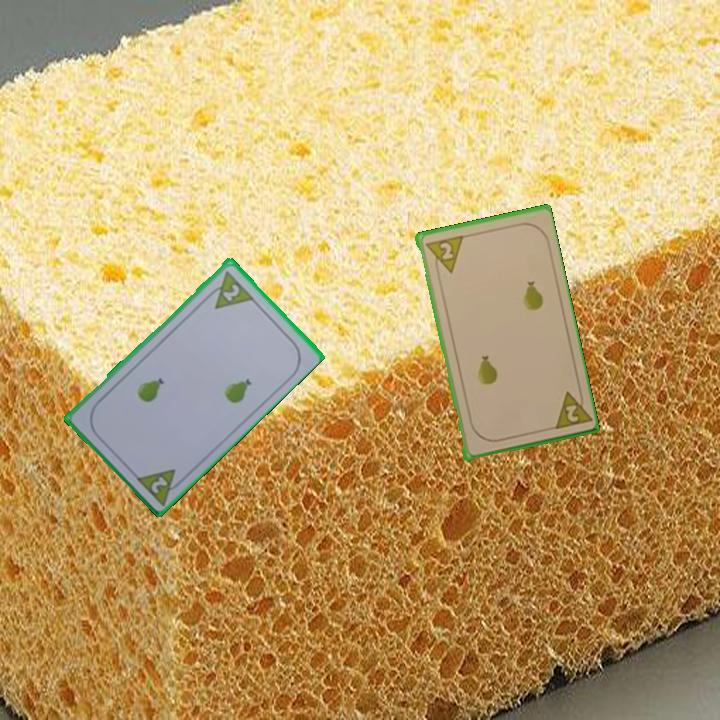2p: (132, 464, 188, 507), (548, 385, 592, 432), (421, 232, 465, 278), (219, 280, 243, 304)
